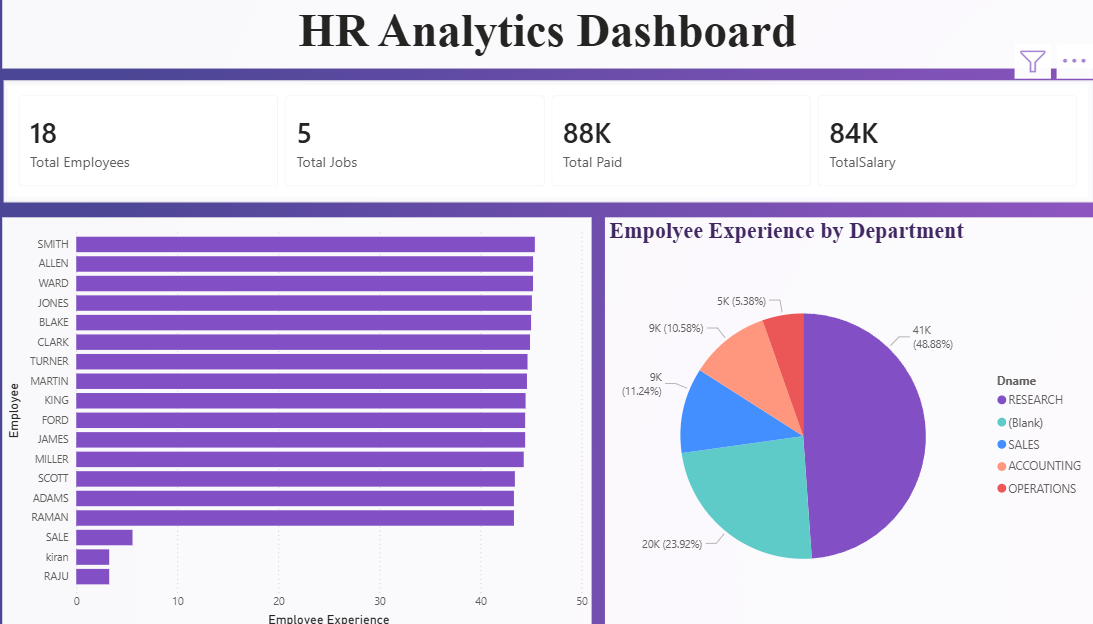

The dashboard page shown, as its layout file describes it:
{"tool":"powerbi","page":{"name":"Page 1","canvas":[1280,720],"ordinal":0},"visuals":[{"type":"textbox","box":[9.9,0,1244.7,79.2],"z":0},{"type":"cardVisual","fields":{"Data":["DeptTable.Total Employees","DeptTable.Total Jobs","DeptTable.Total Paid","DeptTable.TotalSalary"]},"box":[11.9,93,1244.7,138.5],"z":1000},{"type":"clusteredBarChart","fields":{"Category":["Emp.ENAME"],"Y":["Sum(Emp.Empolyee Experience)"]},"box":[9.9,249.3,672.8,471],"z":2000},{"type":"pieChart","title":"Empolyee Experience by Department ","fields":{"Category":["DeptTable.Dname"],"Y":["Sum(Emp.SAL)"]},"box":[698.5,249.3,558,471],"z":3000}]}

Visuals, with their boxes in screenshot pixels (x1, y1, x2, y2), scaled from the page's 1280x720 canvas onto the 1093x624 screenshot:
textbox: x1=8 y1=0 x2=1071 y2=69
cardVisual - DeptTable.Total Employees x DeptTable.Total Jobs: x1=10 y1=81 x2=1073 y2=201
clusteredBarChart - Emp.ENAME x Sum(Emp.Empolyee Experience): x1=8 y1=216 x2=583 y2=623
"Empolyee Experience by Department " pieChart: x1=596 y1=216 x2=1073 y2=623
